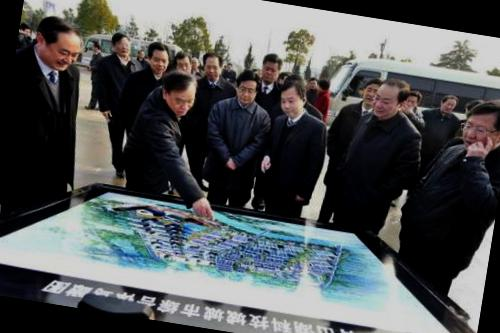no_helmet: (29, 12, 87, 73), (151, 66, 202, 120), (459, 91, 500, 156), (270, 72, 310, 119), (370, 78, 409, 123), (140, 37, 176, 78), (232, 68, 263, 108), (258, 46, 286, 86), (356, 72, 384, 109), (106, 29, 136, 61), (196, 48, 224, 82), (172, 49, 194, 76), (400, 88, 422, 114), (436, 92, 458, 116)
